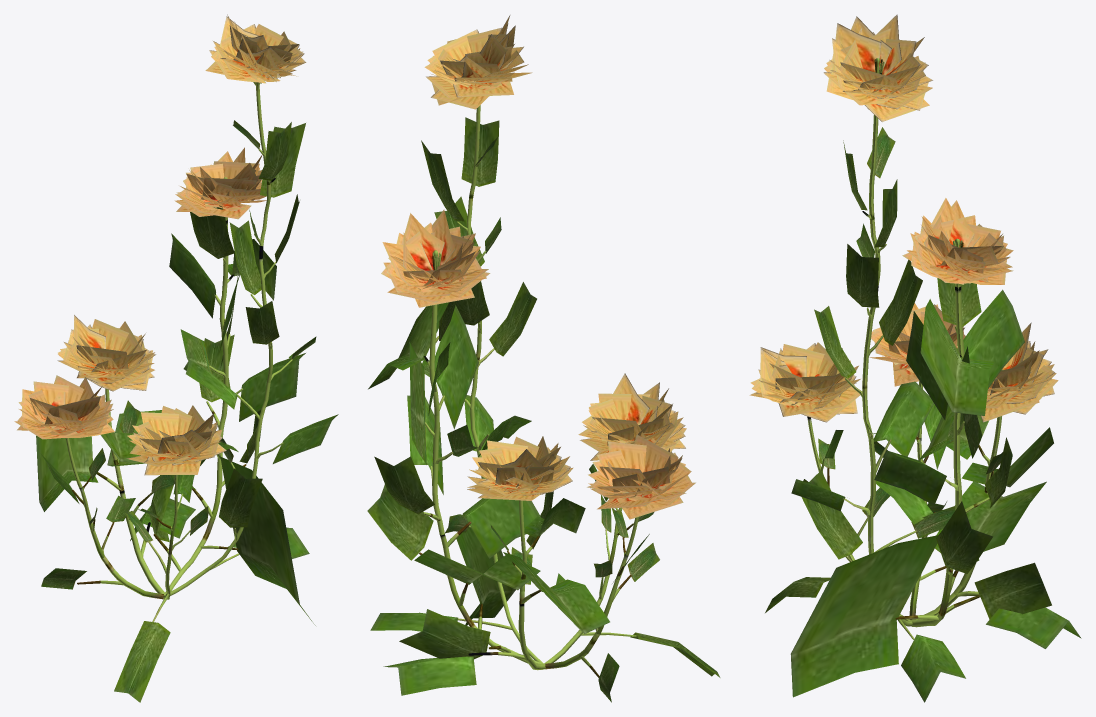
Rendered from orange_flower1.FBX.
3 views of the same model, side by side, from view 1: azimuth 30°, elevation 25°; view 2: azimuth 150°, elevation 25°; view 3: azimuth 270°, elevation 25° (orthographic). The views are drawn at different scales.
Visible parts, largest first — view 1: Yellow_F; view 2: Yellow_F; view 3: Yellow_F.
Boxes of the visible parts, box(x1,y1,x2,y2) form: Yellow_F: box(14, 14, 338, 702); Yellow_F: box(367, 15, 720, 702); Yellow_F: box(749, 14, 1081, 702).
Size of the model in its own units: 0.3755 by 0.7545 by 0.3346.
